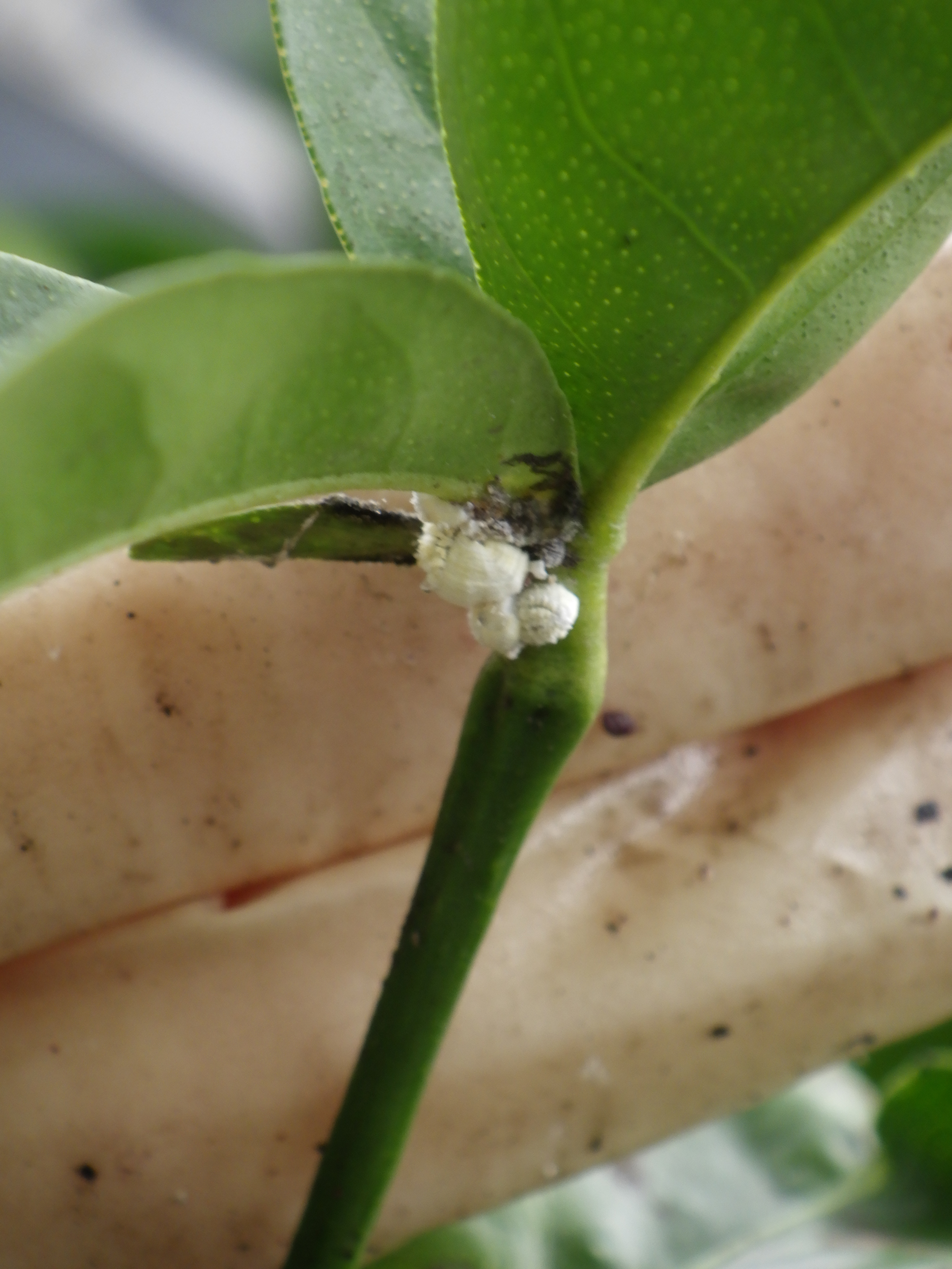Scale_Insect: (413, 523, 579, 658)
